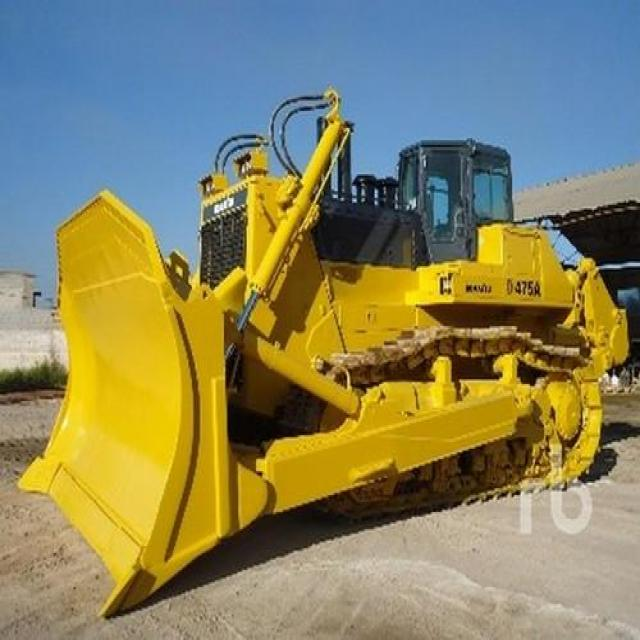Bulldozer: (43, 75, 635, 625)
